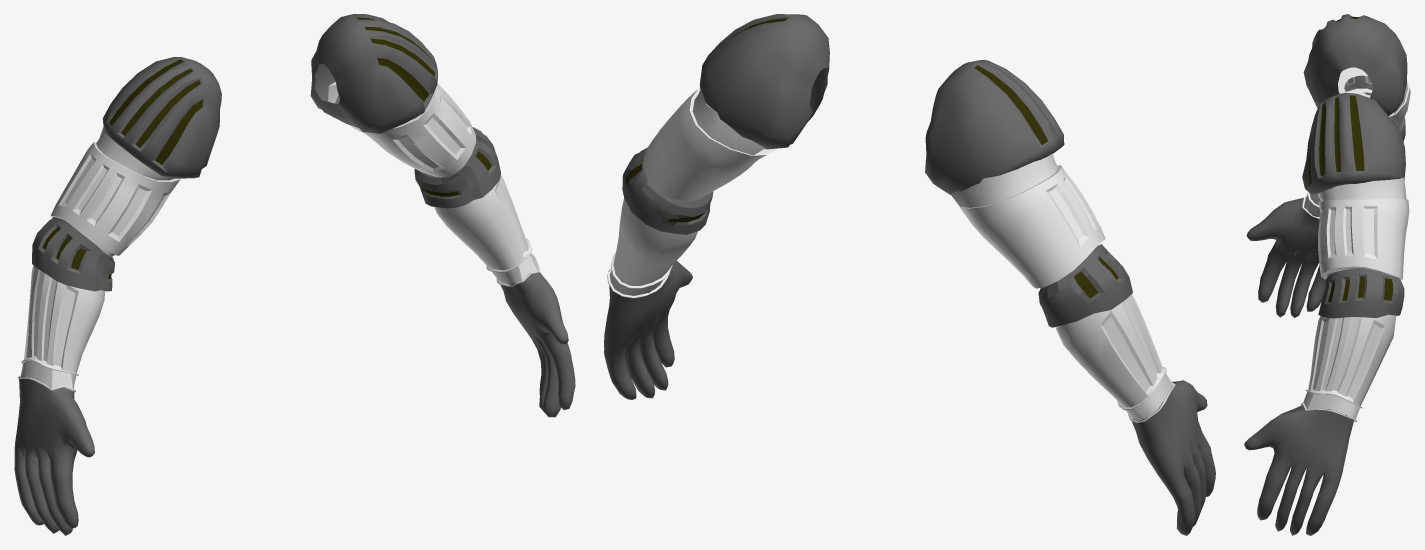
File: mainch.FBX
The picture shows the model from 3 angles, left to right: view 1: azimuth 30°, elevation 25°; view 2: azimuth 150°, elevation 25°; view 3: azimuth 270°, elevation 25°; orthographic projection. The views are drawn at different scales.
Visible parts, largest first — view 1: Bip001 L UpperArm, Bip001 R UpperArm, Bip001 R Forearm, body007, Bip001 L Forearm, Armorpart006, body009, Armorpart008; view 2: Bip001 R UpperArm, Bip001 L UpperArm, Bip001 R Forearm, Armorpart006, Bip001 L Forearm, body007, body009, Armorpart008; view 3: Bip001 L Forearm, Bip001 L UpperArm, body009, Bip001 R UpperArm, Armorpart008, body007, Armorpart006, Bip001 R Forearm.
Part boxes in pixels (x1,y1,x2,y2): Bip001 L UpperArm: [310, 14, 437, 133]; Bip001 R UpperArm: [96, 57, 221, 180]; Bip001 R Forearm: [18, 217, 114, 392]; body007: [14, 376, 94, 535]; Bip001 L Forearm: [414, 127, 539, 286]; Armorpart006: [50, 141, 180, 255]; body009: [500, 272, 575, 417]; Armorpart008: [350, 83, 475, 177]; Bip001 R UpperArm: [925, 59, 1064, 207]; Bip001 L UpperArm: [692, 14, 829, 155]; Bip001 R Forearm: [1038, 244, 1175, 422]; Armorpart006: [960, 165, 1105, 288]; Bip001 L Forearm: [607, 147, 713, 298]; body007: [1129, 380, 1215, 535]; body009: [604, 260, 692, 399]; Armorpart008: [642, 88, 776, 200]; Bip001 L Forearm: [1300, 268, 1404, 422]; Bip001 L UpperArm: [1302, 92, 1406, 201]; body009: [1244, 405, 1353, 535]; Bip001 R UpperArm: [1303, 14, 1407, 115]; Armorpart008: [1318, 199, 1409, 279]; body007: [1246, 198, 1325, 317]; Armorpart006: [1338, 67, 1410, 131]; Bip001 R Forearm: [1302, 92, 1405, 218].
Size of the model in its own units: 44.3 by 32.55 by 13.26.
